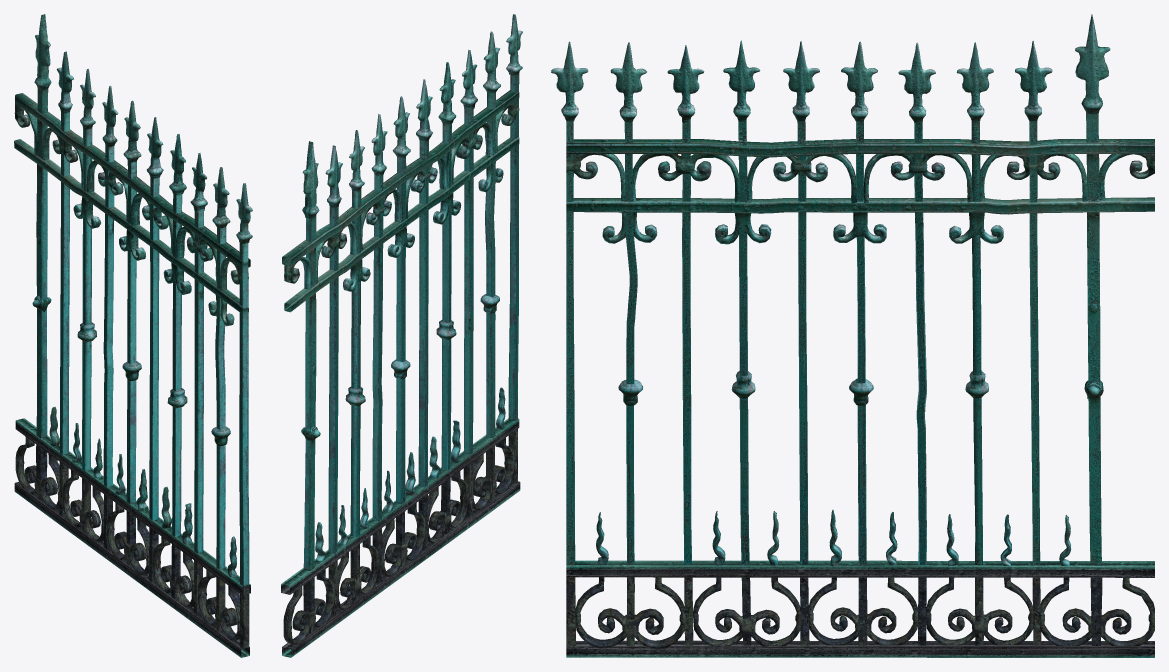
The model's file is sm_OldFence_02_02.fbx.
3 views of the same model, side by side, from view 1: azimuth 30°, elevation 25°; view 2: azimuth 150°, elevation 25°; view 3: azimuth 270°, elevation 25° (orthographic). The views are drawn at different scales.
Visible parts, largest first — view 1: sm_OldFence_02_02_LOD0; view 2: sm_OldFence_02_02_LOD0; view 3: sm_OldFence_02_02_LOD0.
Boxes of the visible parts, x1,y1,x2,y2 form: sm_OldFence_02_02_LOD0: (14,14,252,657); sm_OldFence_02_02_LOD0: (281,14,522,657); sm_OldFence_02_02_LOD0: (551,14,1154,657).
Bounding box in the file's own units: 8.33 × 185 × 216.
